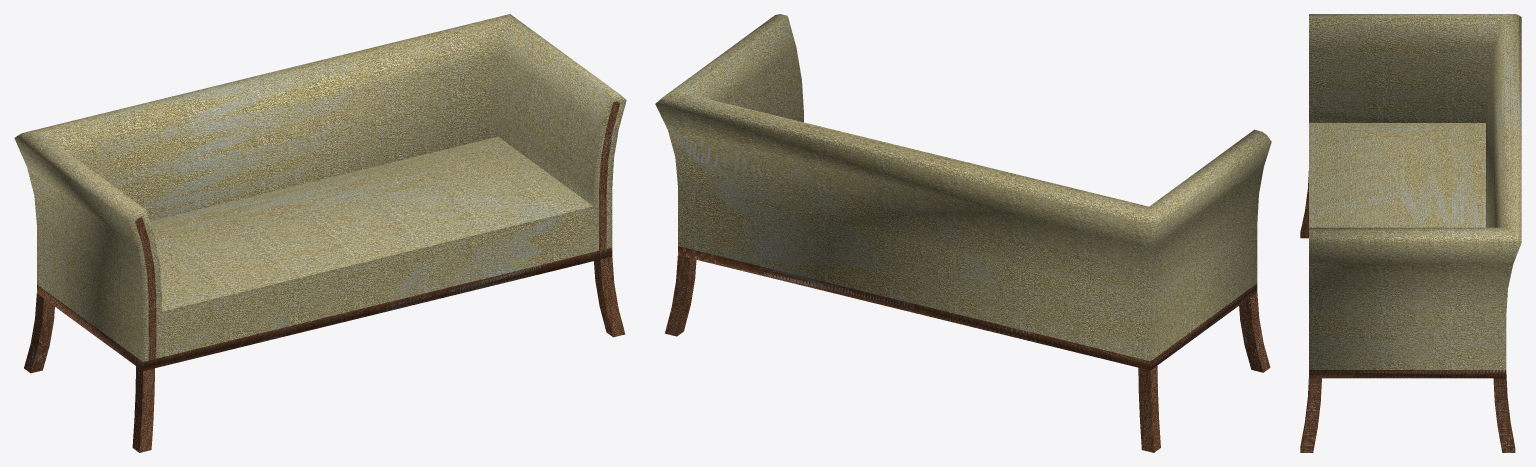
Rendered from Sofa.dae.
3 renders of one model, left to right at view 1: azimuth 30°, elevation 25°; view 2: azimuth 150°, elevation 25°; view 3: azimuth 270°, elevation 25°, orthographic. The views are drawn at different scales.
Parts seen in each view (by area): view 1: Biedermeier_Sofa_3 (×2), Sofabein_1 (×3); view 2: Biedermeier_Sofa_3 (×2), Sofabein_1 (×3); view 3: Biedermeier_Sofa_3 (×2), Sofabein_1 (×3).
Boxes of the visible parts, left/top/right/bottom form: Biedermeier_Sofa_3 (×2): left=14, top=14, right=626, bottom=370; Sofabein_1 (×3): left=24, top=257, right=625, bottom=452; Biedermeier_Sofa_3 (×2): left=655, top=14, right=1271, bottom=370; Sofabein_1 (×3): left=665, top=255, right=1270, bottom=452; Biedermeier_Sofa_3 (×2): left=1309, top=14, right=1521, bottom=378; Sofabein_1 (×3): left=1300, top=171, right=1515, bottom=452.
Bounding box in the file's own units: 77.27 × 32.04 × 35.16.
